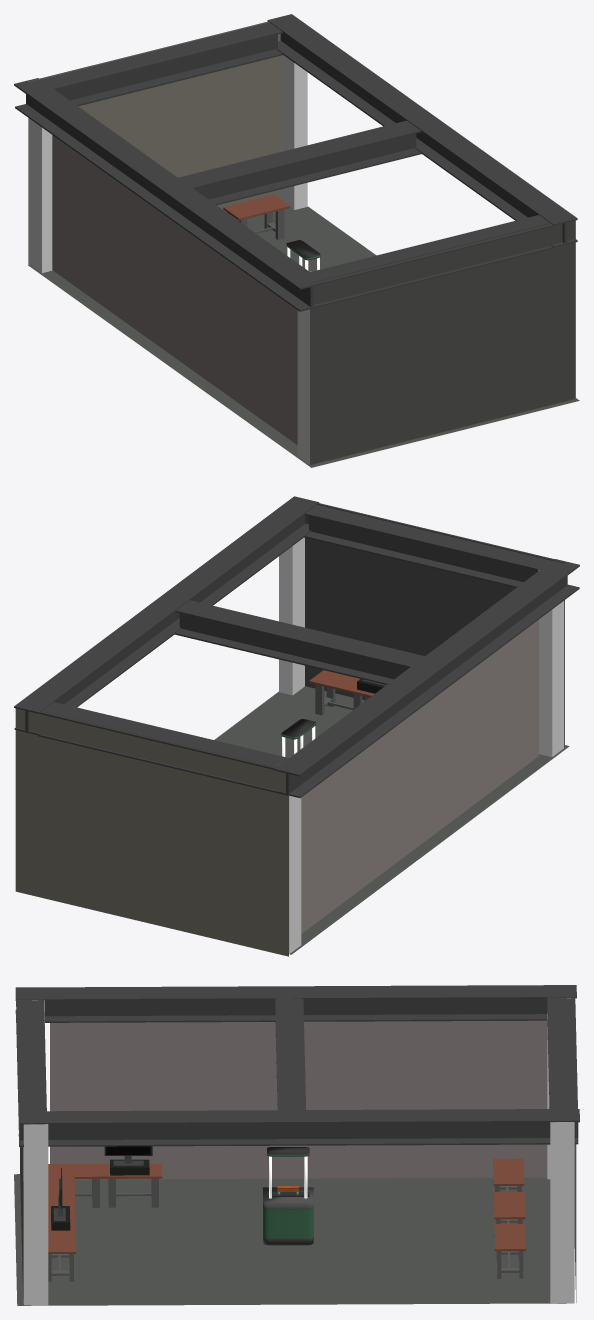
File: escenario-flexion1.glb
The picture shows the model from 3 angles, top to bottom: view 1: azimuth 30°, elevation 25°; view 2: azimuth 150°, elevation 25°; view 3: azimuth 270°, elevation 25°; orthographic projection.
Parts seen in each view (by area): view 1: Vigas_Amarre, ParedFondo, ParedIzquierda.005, ParedDerecha, Piso, Columna3, Columna4, Columna2, Mesa.Lab3; view 2: ParedDerecha, Vigas_Amarre, ParedIzquierda.005, ParedFondo, Piso, Columna2, Columna1, Columna3, Mesa.Lab8; view 3: Piso, ParedIzquierda.005, Vigas_Amarre, Columna1, Columna4, Plane.003, Mesa.Lab3, Computador1, Mesa.Lab8, Mesa.Lab5, Mesa.Lab4, Mesa.Lab1 (+6 smaller).
Boxes of the visible parts, x1=… form: Vigas_Amarre: x1=14, y1=14, x2=577, y2=311; ParedFondo: x1=310, y1=216, x2=575, y2=464; ParedIzquierda.005: x1=52, y1=135, x2=297, y2=444; ParedDerecha: x1=28, y1=21, x2=281, y2=264; Piso: x1=28, y1=206, x2=579, y2=467; Columna3: x1=29, y1=119, x2=52, y2=272; Columna4: x1=281, y1=55, x2=307, y2=209; Columna2: x1=297, y1=271, x2=311, y2=464; Mesa.Lab3: x1=223, y1=194, x2=290, y2=239; ParedDerecha: x1=15, y1=708, x2=288, y2=956; Vigas_Amarre: x1=14, y1=496, x2=579, y2=798; ParedIzquierda.005: x1=301, y1=619, x2=538, y2=933; ParedFondo: x1=293, y1=498, x2=564, y2=747; Piso: x1=214, y1=686, x2=569, y2=954; Columna2: x1=538, y1=569, x2=564, y2=756; Columna1: x1=279, y1=537, x2=304, y2=695; Columna3: x1=275, y1=766, x2=301, y2=954; Mesa.Lab8: x1=309, y1=670, x2=367, y2=715; Piso: x1=14, y1=1174, x2=573, y2=1305; ParedIzquierda.005: x1=50, y1=1020, x2=547, y2=1179; Vigas_Amarre: x1=15, y1=985, x2=579, y2=1146; Columna1: x1=23, y1=1124, x2=48, y2=1305; Columna4: x1=550, y1=1122, x2=574, y2=1303; Plane.003: x1=263, y1=1187, x2=313, y2=1245; Mesa.Lab3: x1=494, y1=1224, x2=525, y2=1278; Computador1: x1=104, y1=1146, x2=152, y2=1175; Mesa.Lab8: x1=48, y1=1226, x2=76, y2=1281; Mesa.Lab5: x1=48, y1=1163, x2=102, y2=1207; Mesa.Lab4: x1=103, y1=1163, x2=162, y2=1207; Mesa.Lab1: x1=493, y1=1158, x2=524, y2=1191.
Size of the model in its own units: 10.6 by 6.51 by 18.2.
27 materials, 1 textured.
